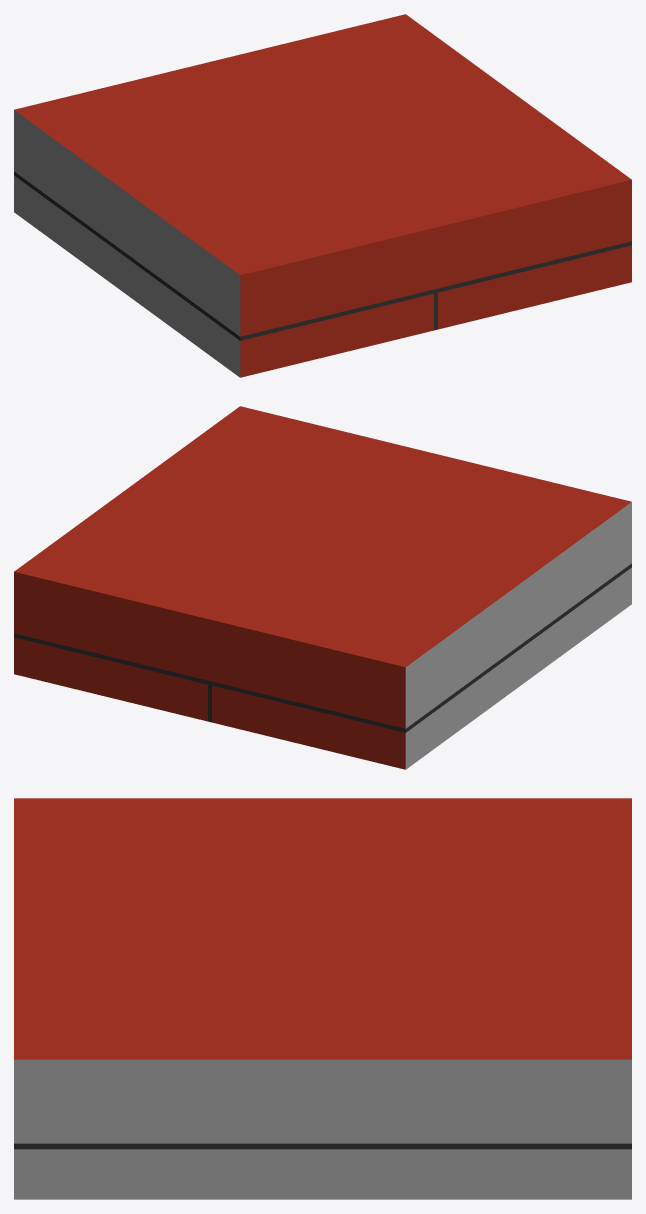
Rendered from spawner_closed.glb.
3 renders of one model, top to bottom at view 1: azimuth 30°, elevation 25°; view 2: azimuth 150°, elevation 25°; view 3: azimuth 270°, elevation 25°, orthographic. The views are drawn at different scales.
Visible parts, largest first — view 1: Cube.001, Cube.000; view 2: Cube.001, Cube.000; view 3: Cube.001, Cube.000.
Boxes of the visible parts, x1=… form: Cube.001: x1=14, y1=14, x2=631, y2=336; Cube.000: x1=14, y1=171, x2=631, y2=377; Cube.001: x1=14, y1=406, x2=631, y2=728; Cube.000: x1=14, y1=563, x2=631, y2=769; Cube.001: x1=14, y1=798, x2=631, y2=1143; Cube.000: x1=14, y1=1143, x2=631, y2=1199.
Size of the model in its own units: 2 by 0.6 by 2.
